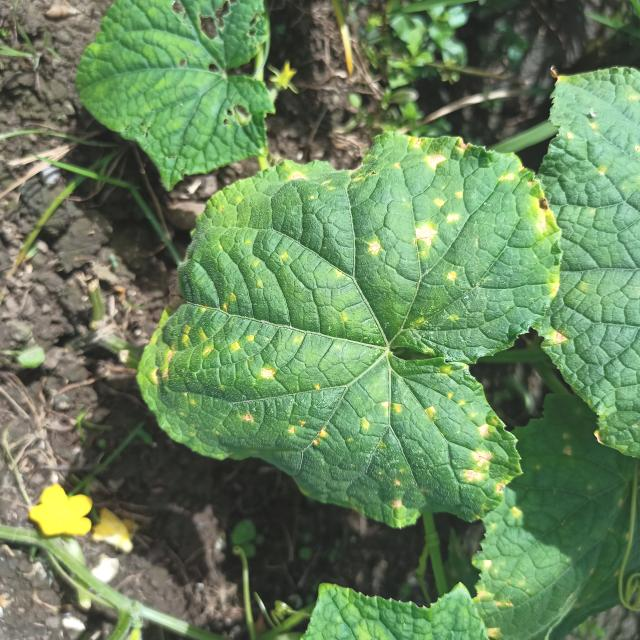disease_cucumber: (148, 130, 560, 513), (562, 116, 610, 184)
